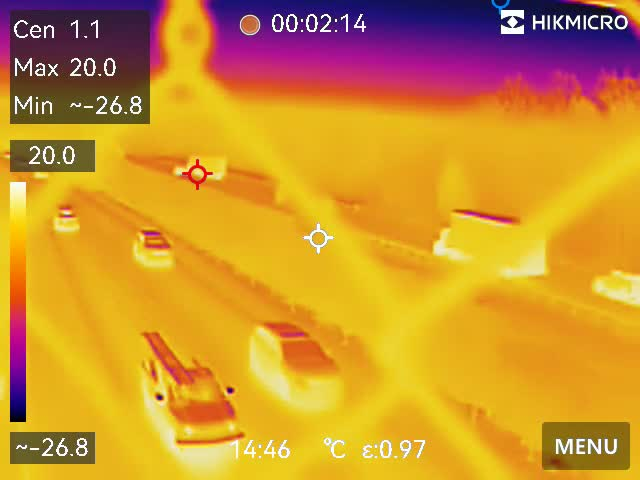heavyTruck: (428, 205, 566, 279)
largeCar: (244, 311, 343, 412), (131, 220, 181, 280)
lightTruck: (137, 327, 247, 463)
